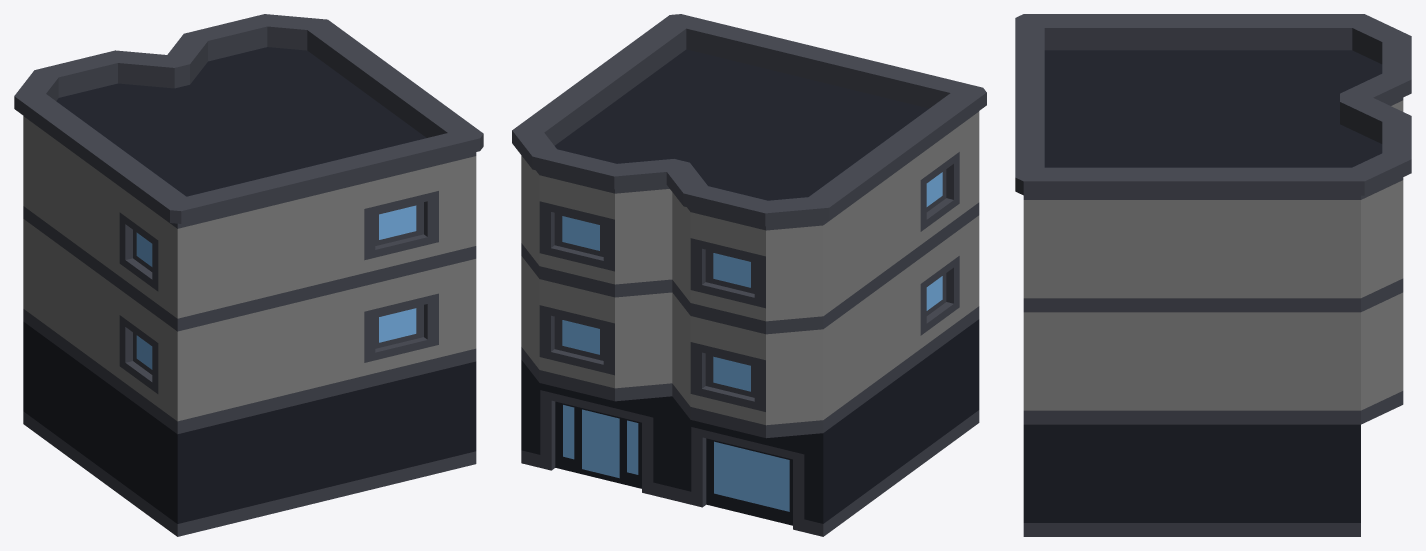
3 renders of one model, left to right at view 1: azimuth 30°, elevation 25°; view 2: azimuth 150°, elevation 25°; view 3: azimuth 270°, elevation 25°, orthographic. The views are drawn at different scales.
Visible parts, largest first — view 1: Building; view 2: Building; view 3: Building.
Boxes of the visible parts, x1,y1,x2,y2 form: Building: [14, 14, 483, 536]; Building: [512, 14, 986, 536]; Building: [1015, 14, 1411, 536].
Size of the model in its own units: 31.96 by 32 by 31.99.
